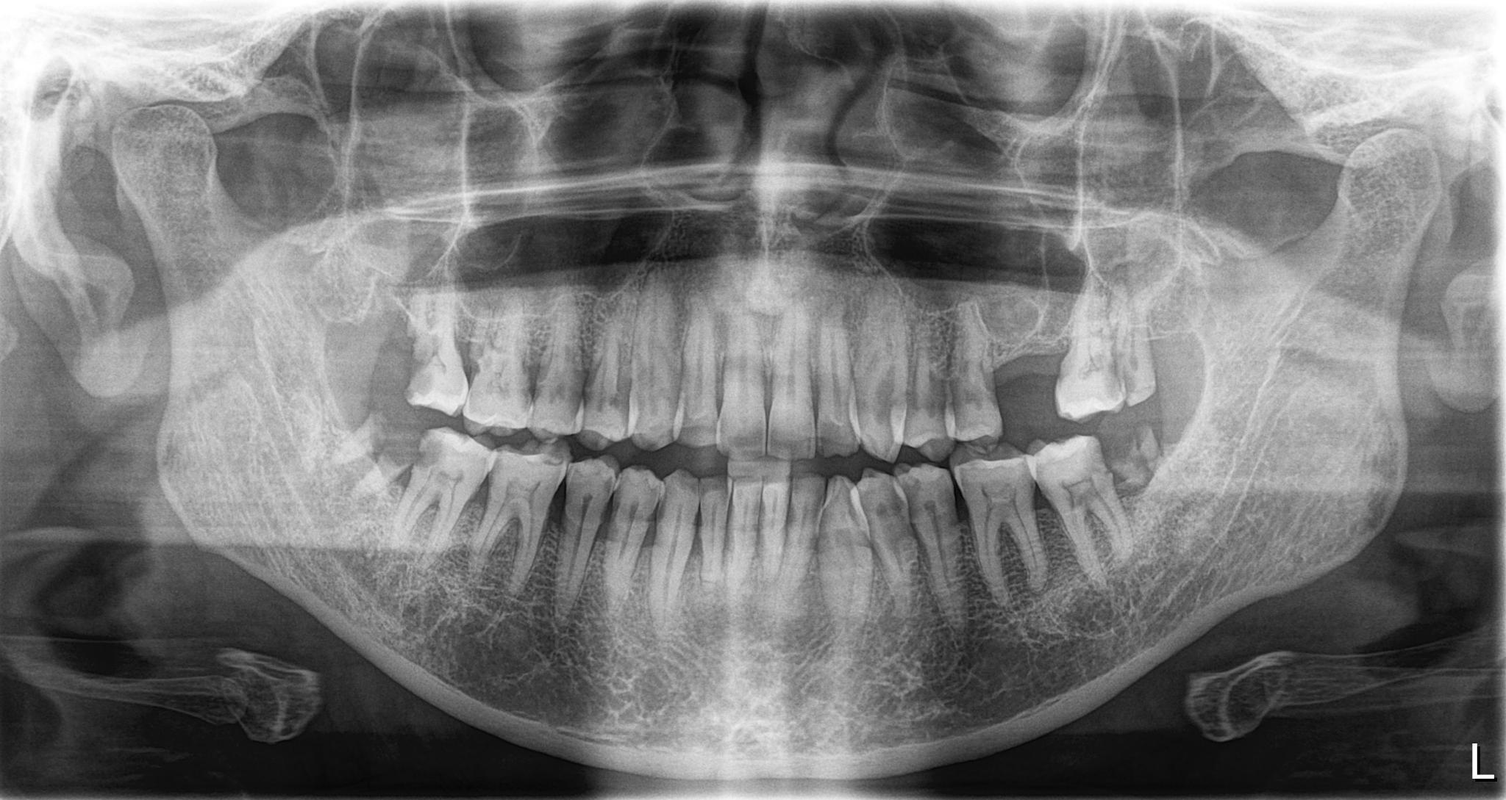Impacted Third Molar: (1099, 430, 1183, 513), (349, 419, 413, 503)
Missing Tooth: (322, 303, 421, 404), (993, 299, 1060, 420), (1151, 288, 1191, 397)
